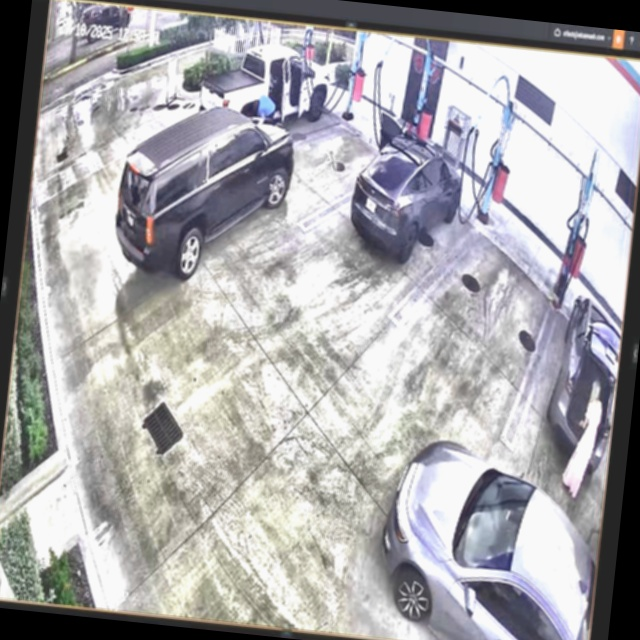Car: (371, 434, 607, 640), (112, 97, 299, 288), (346, 130, 467, 268)
